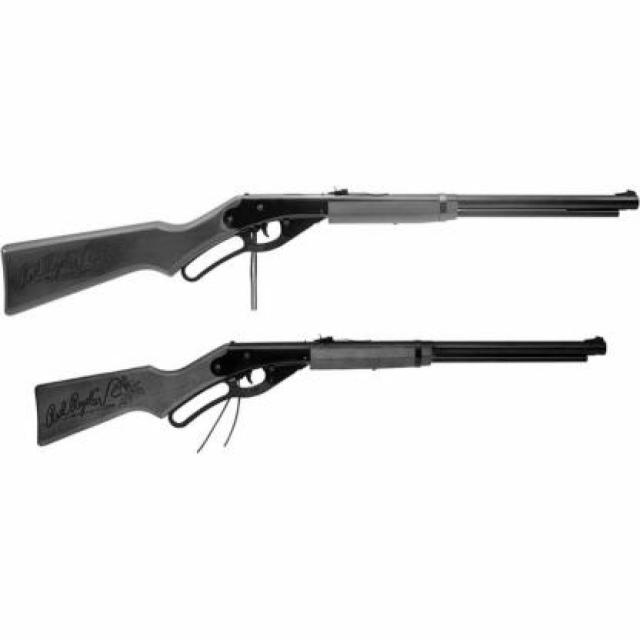weapon: (0, 188, 638, 317), (34, 332, 608, 451)
